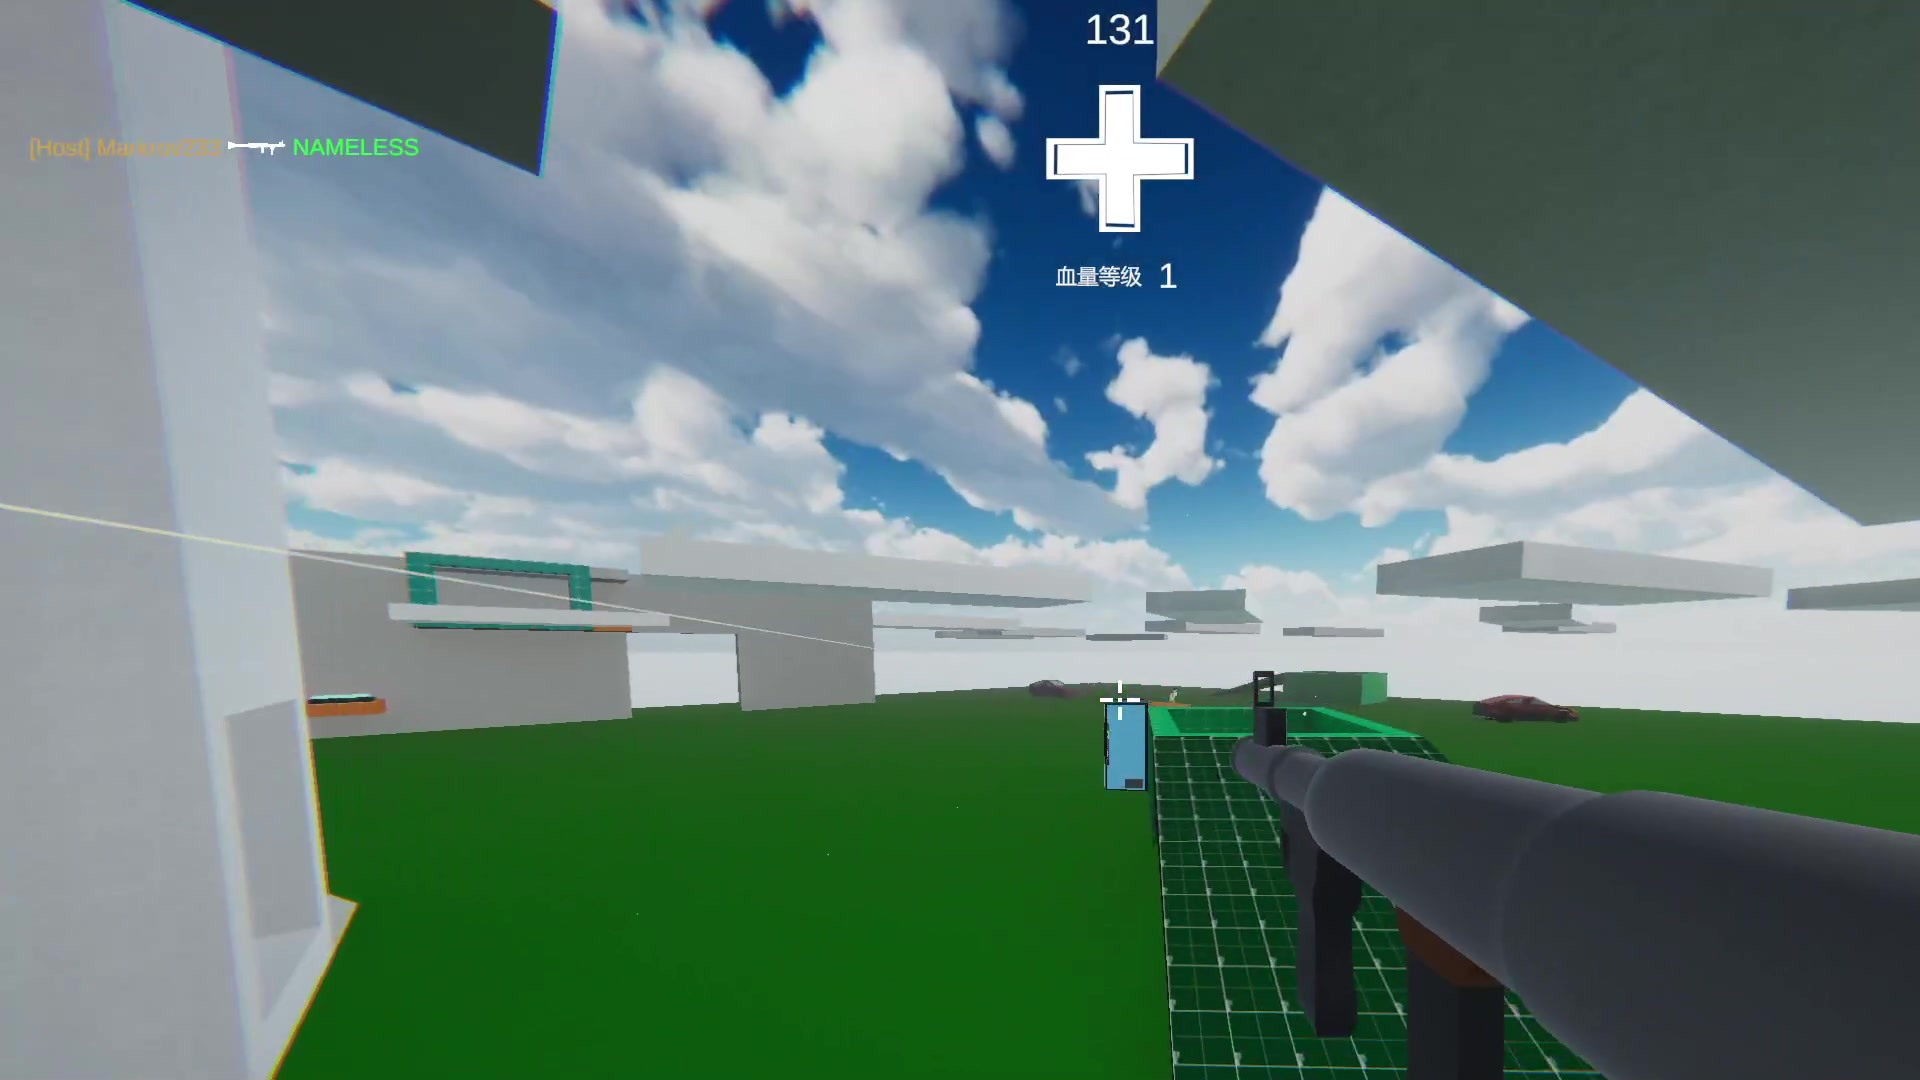human: (1166, 683, 1181, 702)
